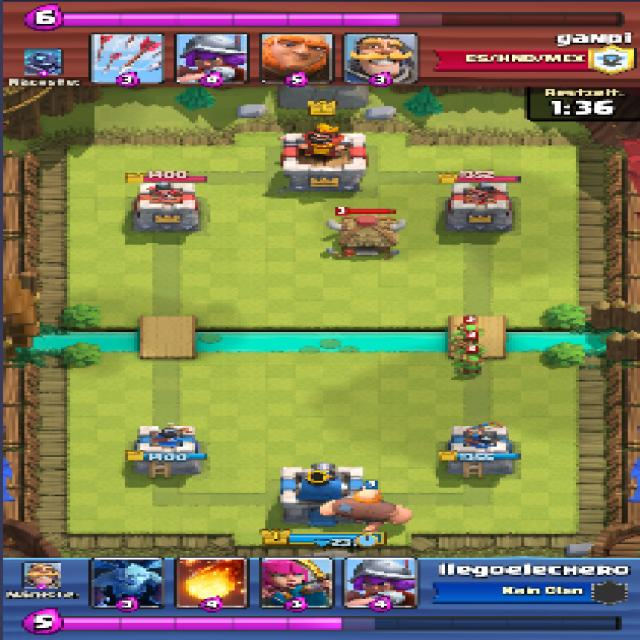Enemy-GoblinHut: (330, 216, 402, 257)
Enemy-SpearGoblin: (449, 344, 489, 360), (448, 324, 486, 338), (456, 358, 484, 374)
